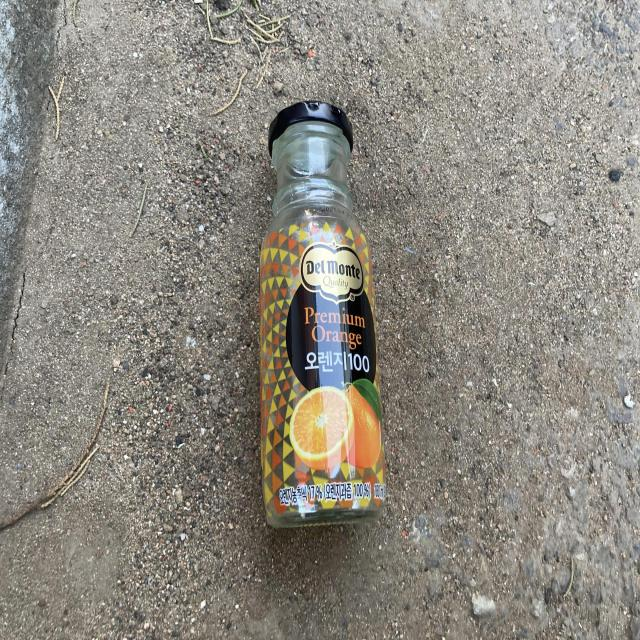glass: (260, 100, 386, 528)
